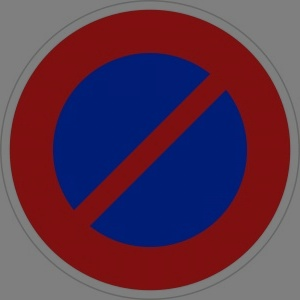Prohibition_sign: (2, 1, 293, 300)
